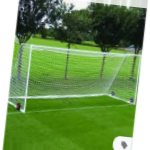goals: (11, 43, 139, 113)
